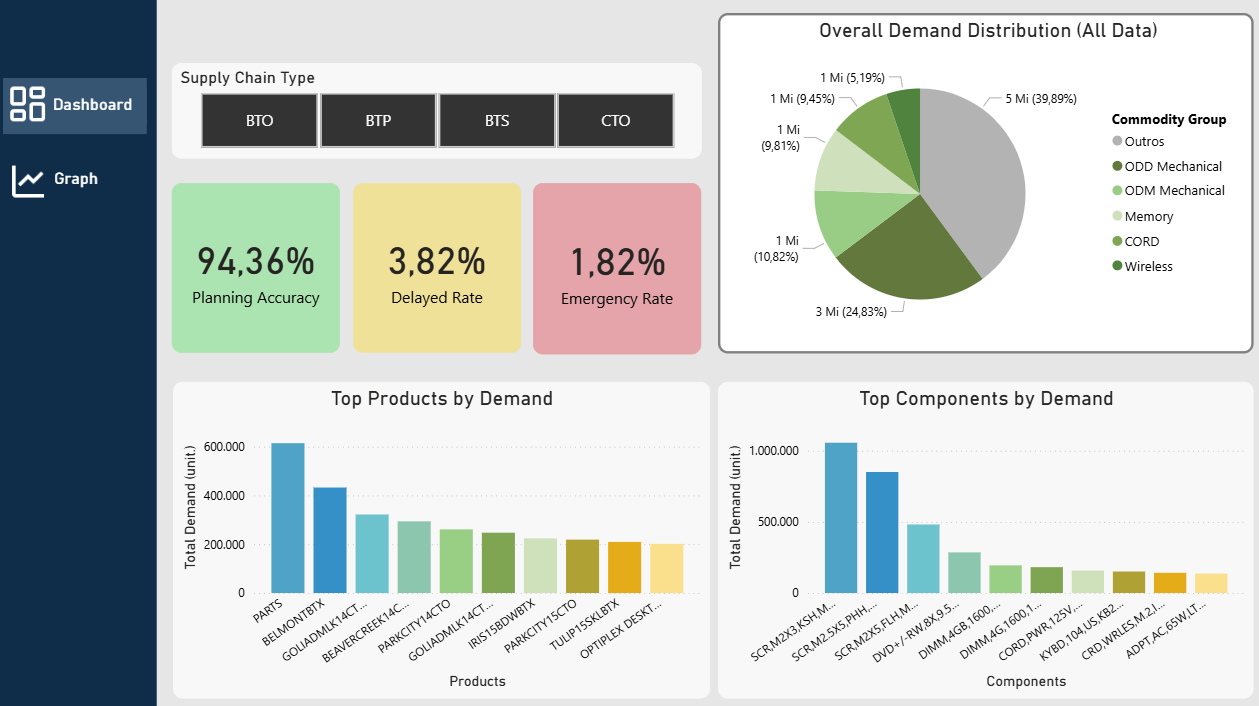

Layout of this report page (visuals, bound fields, positions):
{"tool":"powerbi","page":{"name":"Página 1","canvas":[1280,720],"ordinal":0},"visuals":[{"type":"shape","box":[0,0,1280.1,719.9],"z":0},{"type":"actionButton","box":[5.1,81.6,145.8,56.9],"z":0,"group":"g1"},{"type":"shape","box":[0,0,160.7,719.6],"z":1000},{"type":"textbox","box":[50.9,92.6,100,36.1],"z":1000,"group":"g1"},{"type":"image","box":[8.8,86.7,42.7,42.7],"z":2000,"group":"g1"},{"type":"card","title":"Planning Accuracy (%)","fields":{"Values":["Sheet1.On Schedule %"]},"box":[176.1,187.3,170.4,171.8],"z":2000},{"type":"card","fields":{"Values":["Sheet1.Delayed %"]},"box":[359.2,187.3,170.4,171.8],"z":3000},{"type":"card","fields":{"Values":["Sheet1.Correction %"]},"box":[542.3,187.3,170.4,173.2],"z":4000},{"type":"columnChart","title":"Top Products by Demand","fields":{"Category":["Sheet1.PRODUCT_NAME"],"Y":["Sheet1.Total Demand"]},"box":[176.6,388.1,543.6,320.9],"z":5000},{"type":"columnChart","title":"Top Components by Demand","fields":{"Category":["Sheet1.ITM_DESC"],"Y":["Sheet1.Total Demand"]},"box":[729,388.1,542.4,320.9],"z":6000},{"type":"pieChart","title":"Overall Demand Distribution (All Data)","fields":{"Category":["Commodity Pie.Commodity Group"],"Y":["Sum(Commodity Pie.Total_Qty)"]},"box":[729,14.9,542.4,344.6],"z":7000},{"type":"slicer","title":"Supply Chain Type","fields":{"Values":["Sheet1.SUPPLY_CHAIN_TYPE"]},"box":[176.1,66.2,536.6,97.2],"z":8000},{"type":"group","id":"g1","title":"Botão dashboard","box":[5.1,81.6,145.8,56.9],"z":9000},{"type":"image","box":[8.7,159.8,42.9,52.6],"z":10000,"group":"g2"},{"type":"actionButton","box":[8.3,159.7,143.1,52.4],"z":10500,"group":"g2"},{"type":"textbox","box":[51,167.7,61.3,36.5],"z":11000,"group":"g2"},{"type":"group","id":"g2","title":"Botão graph","box":[8.3,159.7,143.1,52.8],"z":11001},{"type":"textbox","box":[177.2,15.2,374.7,38],"z":11002}]}

Visuals, with their boxes on the page's 1280x720 design canvas (x1, y1, x2, y2). These are canvas units, not pixel positions in the 1259x706 screenshot, which may show the page scaled, cropped or inside an application window:
shape: detection(0, 0, 1280, 720)
actionButton: detection(5, 82, 151, 138)
shape: detection(0, 0, 161, 720)
textbox: detection(51, 93, 151, 129)
image: detection(9, 87, 52, 129)
"Planning Accuracy (%)" card: detection(176, 187, 346, 359)
card - Sheet1.Delayed %: detection(359, 187, 530, 359)
card - Sheet1.Correction %: detection(542, 187, 713, 360)
"Top Products by Demand" columnChart: detection(177, 388, 720, 709)
"Top Components by Demand" columnChart: detection(729, 388, 1271, 709)
"Overall Demand Distribution (All Data)" pieChart: detection(729, 15, 1271, 360)
"Supply Chain Type" slicer: detection(176, 66, 713, 163)
"Botão dashboard" group: detection(5, 82, 151, 138)
image: detection(9, 160, 52, 212)
actionButton: detection(8, 160, 151, 212)
textbox: detection(51, 168, 112, 204)
"Botão graph" group: detection(8, 160, 151, 212)
textbox: detection(177, 15, 552, 53)
